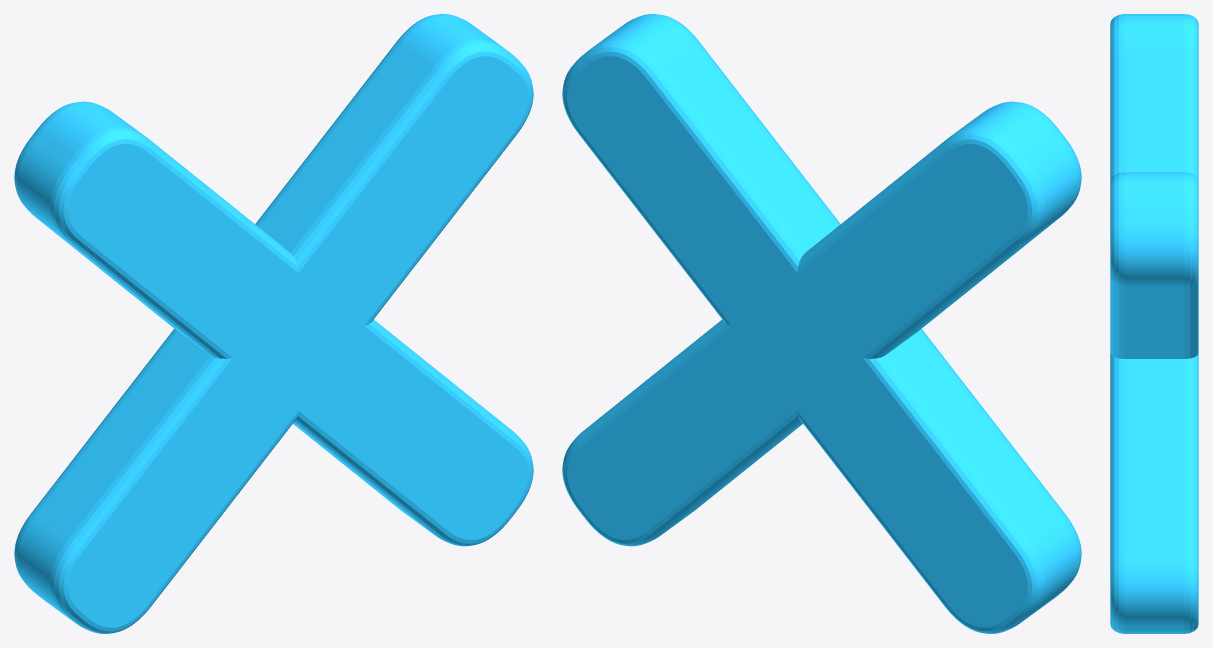
3 renders of one model, left to right at view 1: azimuth 30°, elevation 25°; view 2: azimuth 150°, elevation 25°; view 3: azimuth 270°, elevation 25°, orthographic. The views are drawn at different scales.
Visible parts, largest first — view 1: Arm NW-SE beveled solid, Arm NE-SW beveled solid; view 2: Arm NW-SE beveled solid, Arm NE-SW beveled solid; view 3: Arm NE-SW beveled solid, Arm NW-SE beveled solid.
Part boxes in pixels (left/top/right/bottom): Arm NW-SE beveled solid: left=14, top=14, right=533, bottom=633; Arm NE-SW beveled solid: left=14, top=101, right=533, bottom=546; Arm NW-SE beveled solid: left=562, top=14, right=1081, bottom=633; Arm NE-SW beveled solid: left=562, top=101, right=1081, bottom=546; Arm NE-SW beveled solid: left=1110, top=14, right=1198, bottom=633; Arm NW-SE beveled solid: left=1110, top=172, right=1198, bottom=358.
Bounding box in the file's own units: 1.21 × 1.21 × 0.215.
